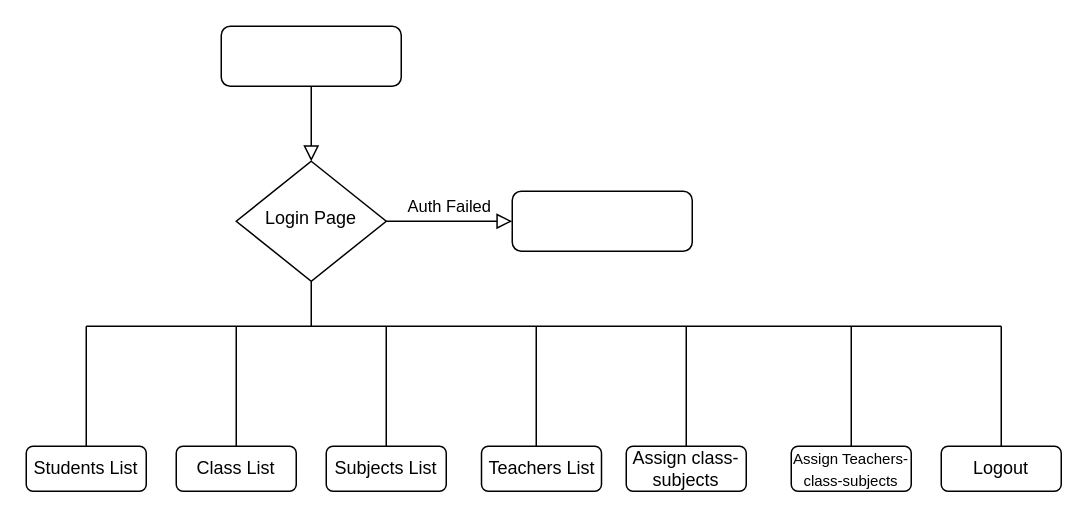
The diagram is 1088 pixels wide and 518 high, and some of its shapes have lost their labels. Here are the shapes that lost their labels. From the top down, the centre of each, then its label:
(x=310, y=55): Welcome
(x=601, y=220): Redirect to Login
